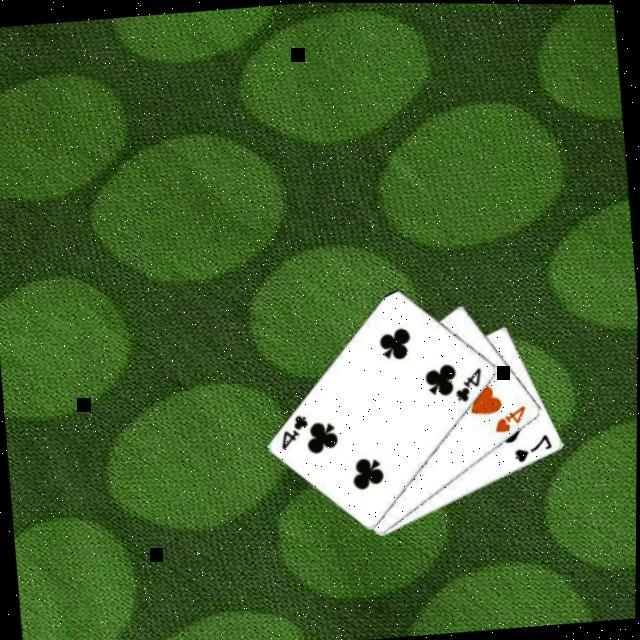4C: (449, 365, 486, 406), (276, 412, 312, 453)
4H: (490, 403, 530, 437)
7S: (510, 431, 557, 466)
